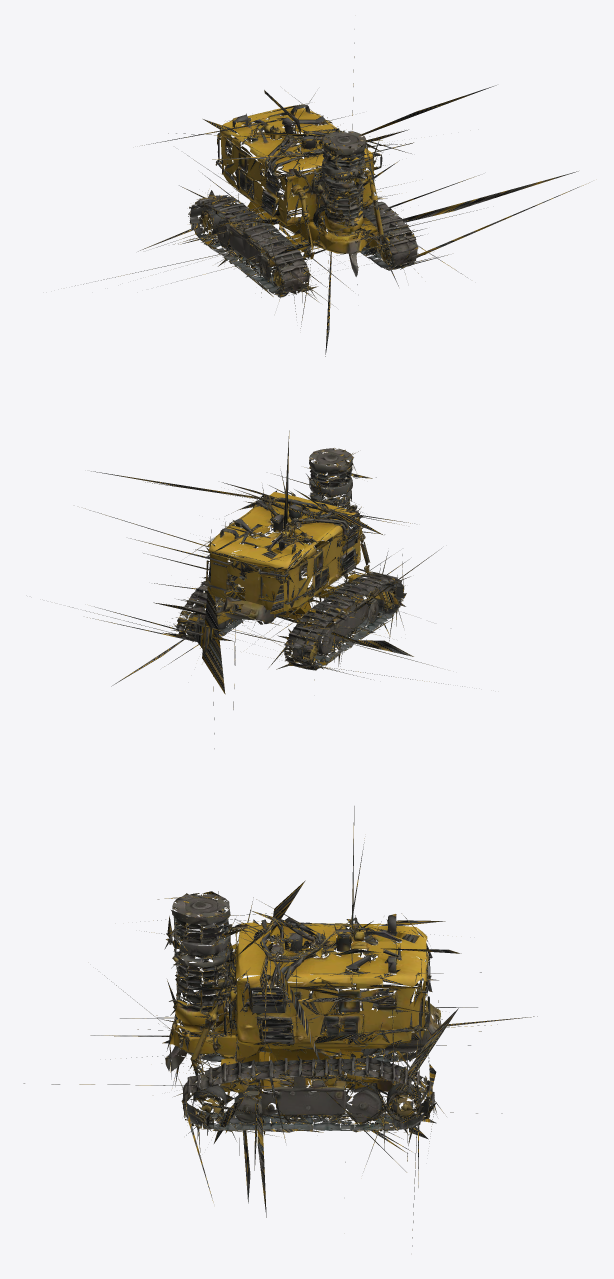
File: crawler-v2.glb
3 views of the same model, one above another, from view 1: azimuth 30°, elevation 25°; view 2: azimuth 150°, elevation 25°; view 3: azimuth 270°, elevation 25° (orthographic). The views are drawn at different scales.
Parts seen in each view (by area): view 1: tripo_node_f7d39b47-4151-4db3-8219-232d08e8216c; view 2: tripo_node_f7d39b47-4151-4db3-8219-232d08e8216c; view 3: tripo_node_f7d39b47-4151-4db3-8219-232d08e8216c.
Boxes of the visible parts, left/top/right/bottom form: tripo_node_f7d39b47-4151-4db3-8219-232d08e8216c: left=75, top=29, right=589, bottom=356; tripo_node_f7d39b47-4151-4db3-8219-232d08e8216c: left=69, top=430, right=462, bottom=748; tripo_node_f7d39b47-4151-4db3-8219-232d08e8216c: left=23, top=806, right=537, bottom=1246.
Bounding box in the file's own units: 3.03 × 1.79 × 2.11.
Materials: 1 (1 with a texture image).
